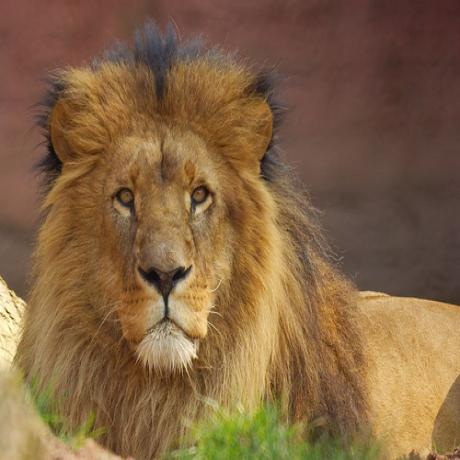Lion: (13, 23, 459, 460)
